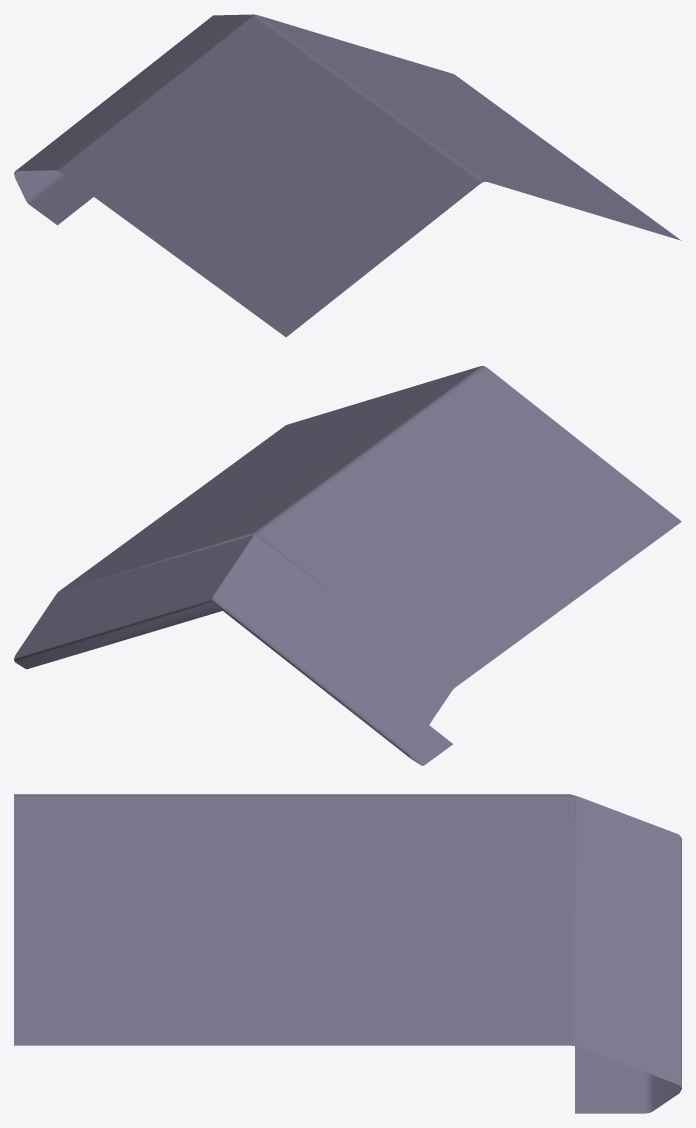
The model's file is SM_RoofD.fbx.
The picture shows the model from 3 angles, top to bottom: view 1: azimuth 30°, elevation 25°; view 2: azimuth 150°, elevation 25°; view 3: azimuth 270°, elevation 25°; orthographic projection. The views are drawn at different scales.
Parts seen in each view (by area): view 1: modular_serious:pCube10; view 2: modular_serious:pCube10; view 3: modular_serious:pCube10.
Part boxes in pixels (x1,y1,x2,y2): modular_serious:pCube10: [14, 14, 681, 337]; modular_serious:pCube10: [14, 366, 681, 765]; modular_serious:pCube10: [14, 794, 681, 1113].
Bounding box in the file's own units: 300 × 118 × 357.
